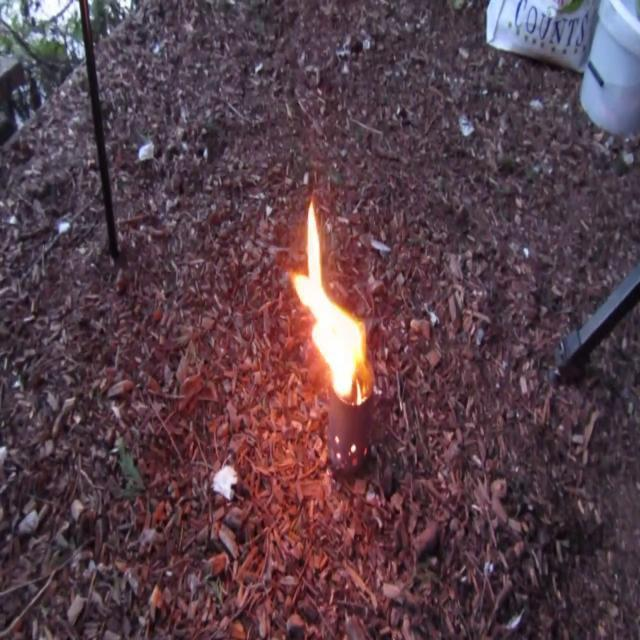Fire: (287, 203, 371, 400)
